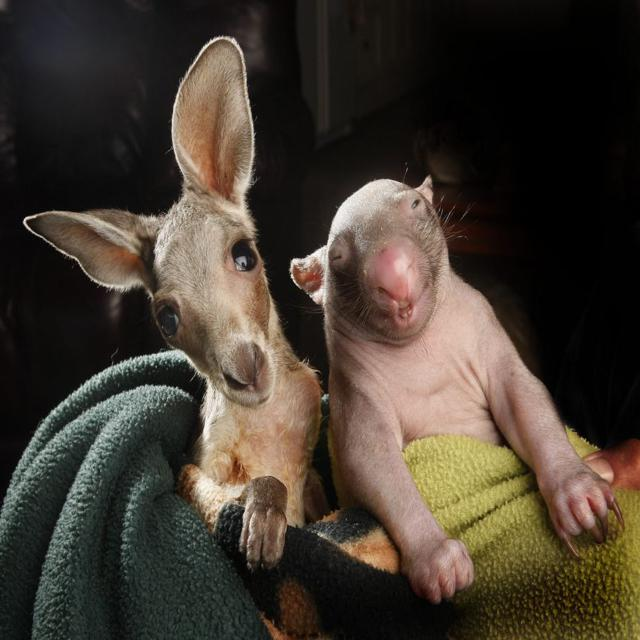kangaroo: (34, 52, 320, 532)
